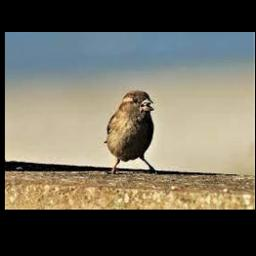Sparrow: (105, 89, 157, 173)
